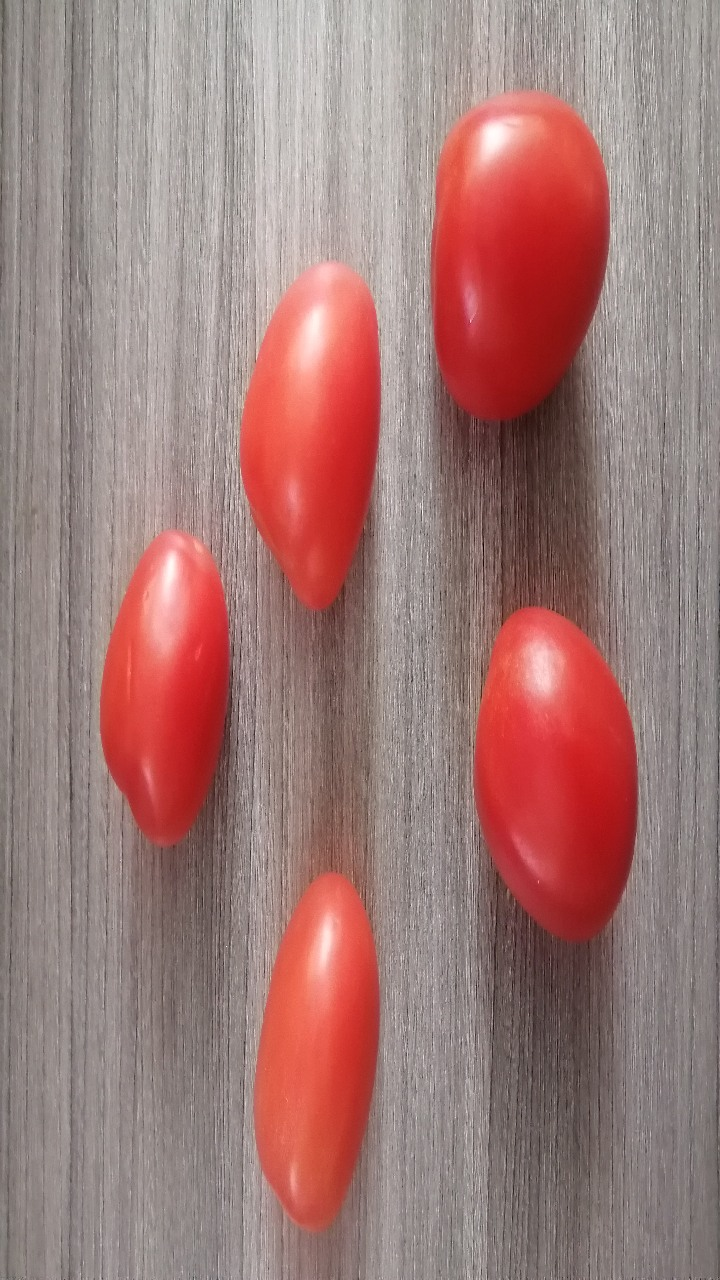tomateRojo: (443, 583, 660, 952), (409, 77, 609, 449), (218, 255, 404, 640), (231, 862, 403, 1257), (83, 520, 264, 875)
